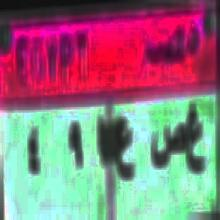4: (23, 128, 45, 184)
9: (64, 112, 89, 172)
ain: (112, 115, 136, 186)
ghayn: (187, 100, 204, 176)
saad: (149, 121, 187, 172)
